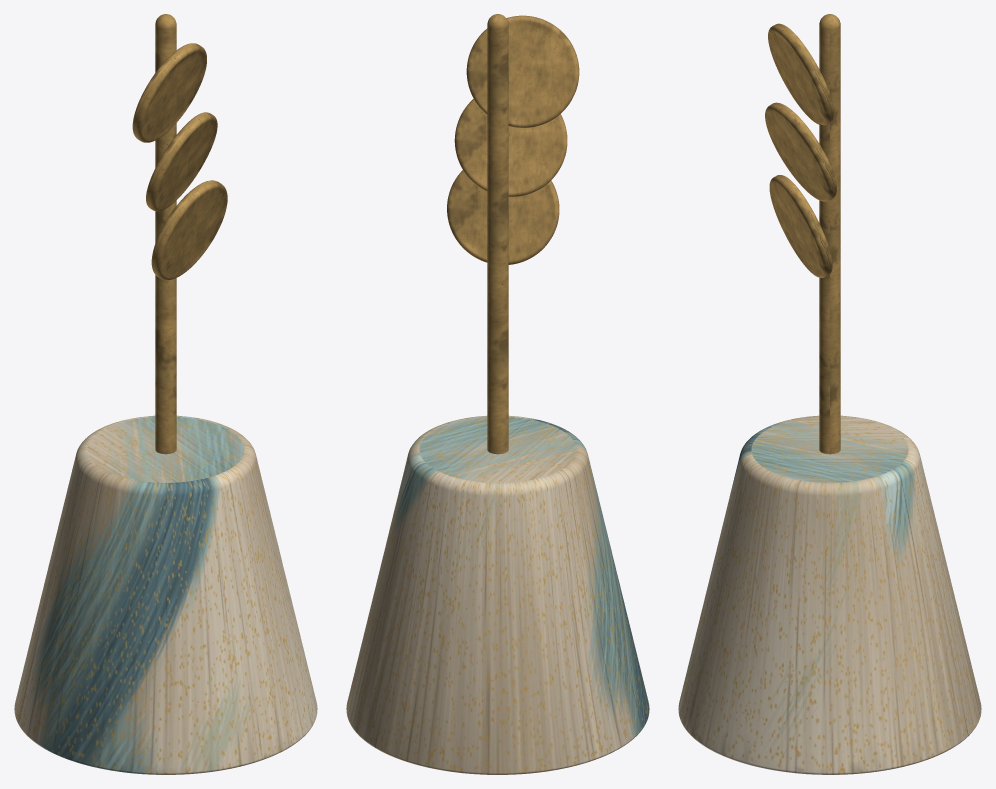
File: queen-white-hd.glb
The picture shows the model from 3 angles, left to right: view 1: azimuth 30°, elevation 25°; view 2: azimuth 150°, elevation 25°; view 3: azimuth 270°, elevation 25°; orthographic projection.
Visible parts, largest first — view 1: Telo, Tyc, Mince_3, Mince_1, Mince_2; view 2: Telo, Tyc, Mince_1, Mince_2, Mince_3; view 3: Telo, Tyc, Mince_2, Mince_1, Mince_3.
Boxes of the visible parts, x1=… form: Telo: x1=14, y1=415, x2=317, y2=774; Tyc: x1=155, y1=14, x2=176, y2=454; Mince_3: x1=151, y1=180, x2=227, y2=280; Mince_1: x1=132, y1=43, x2=206, y2=142; Mince_2: x1=146, y1=112, x2=217, y2=211; Telo: x1=346, y1=415, x2=649, y2=774; Tyc: x1=487, y1=14, x2=508, y2=454; Mince_1: x1=466, y1=15, x2=579, y2=127; Mince_2: x1=454, y1=99, x2=567, y2=196; Mince_3: x1=447, y1=170, x2=559, y2=264; Telo: x1=678, y1=415, x2=981, y2=774; Tyc: x1=819, y1=14, x2=840, y2=454; Mince_2: x1=765, y1=102, x2=836, y2=201; Mince_1: x1=768, y1=23, x2=833, y2=125; Mince_3: x1=769, y1=175, x2=832, y2=277.
Size of the model in its own units: 0.6384 by 1.62 by 0.6384.
3 materials, 3 textured.
